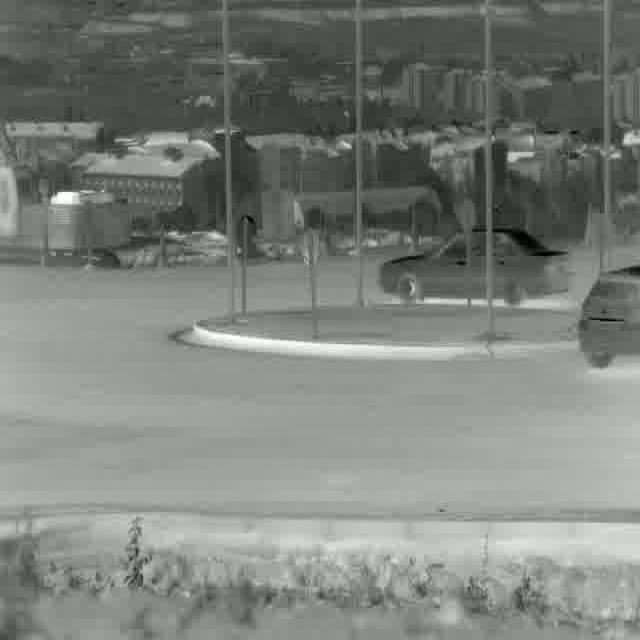Car: (377, 226, 566, 309), (576, 263, 640, 369)
